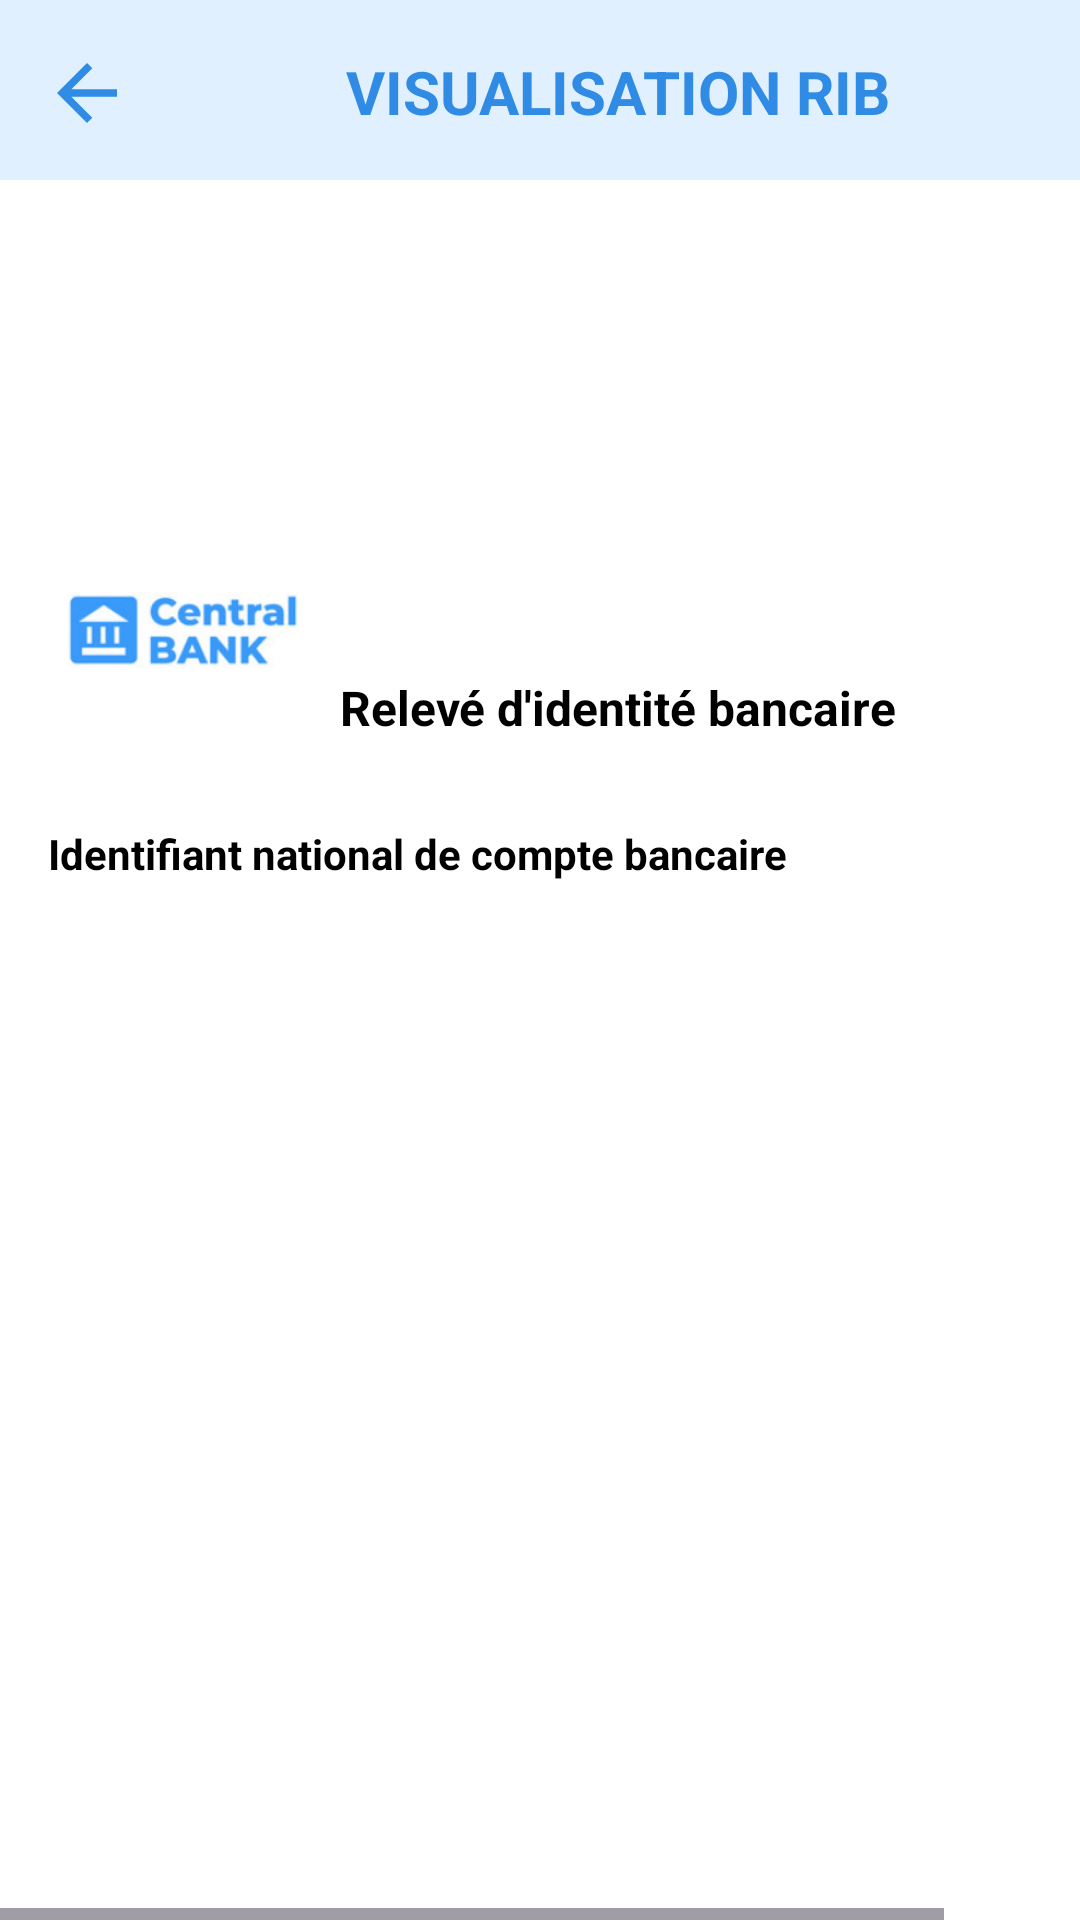

Named icons in this screenshot (1080×1920) and their bounding boxes, Rect(x1, y1, x2, y2):
arrow back: Rect(57, 63, 117, 123)
